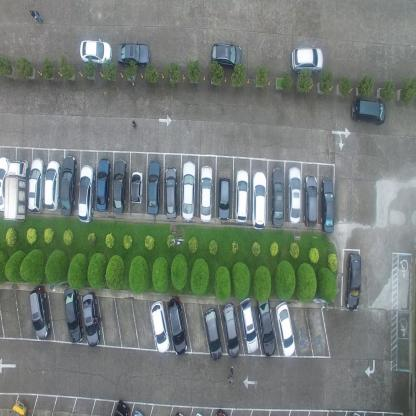car: (3, 158, 29, 221), (256, 295, 276, 357), (28, 284, 50, 340), (168, 295, 188, 356), (64, 284, 84, 345), (150, 298, 170, 354), (275, 301, 295, 357), (27, 157, 46, 215), (82, 290, 101, 348), (350, 96, 386, 126), (60, 154, 77, 217), (77, 164, 95, 223), (240, 296, 258, 353), (204, 307, 223, 361), (210, 41, 243, 72), (290, 44, 324, 74), (345, 251, 361, 312), (251, 170, 267, 230), (223, 302, 240, 358), (116, 40, 151, 67), (80, 37, 112, 66), (287, 165, 302, 226), (43, 158, 60, 211), (182, 159, 196, 222), (270, 166, 284, 229), (112, 157, 127, 215), (95, 156, 110, 212), (234, 168, 249, 224), (320, 177, 335, 233), (303, 174, 318, 228), (164, 166, 178, 219), (200, 166, 213, 223), (148, 161, 161, 216), (216, 176, 231, 223), (0, 153, 11, 212), (130, 170, 143, 204), (8, 400, 29, 415), (112, 400, 130, 416)
